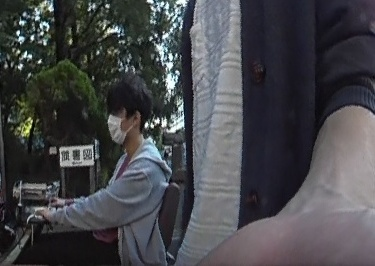person: (38, 80, 167, 264)
